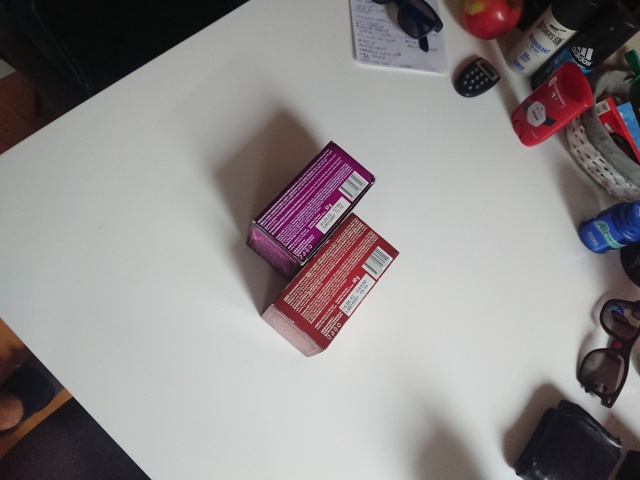Franck Apple Cinnamon Tea 60g: (259, 210, 402, 360)
Franck Black Currant Tea 60g: (243, 138, 379, 283)
